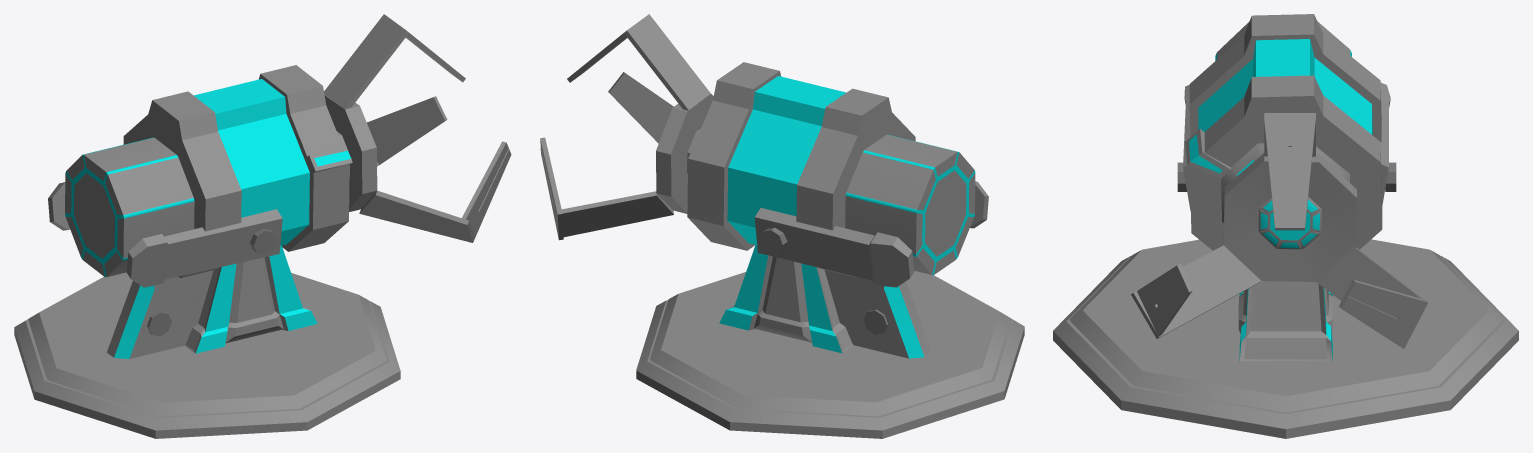
The model's file is black_hole_gun.fbx.
The picture shows the model from 3 angles, left to right: view 1: azimuth 30°, elevation 25°; view 2: azimuth 150°, elevation 25°; view 3: azimuth 270°, elevation 25°; orthographic projection. The views are drawn at different scales.
Visible parts, largest first — view 1: pCylinder3, pCylinder1, pCylinder6, pCube17, pCube1, pCube19, pCube3, pCylinder2, pCube9, pCube10, pCube8, pCube14 (+2 smaller); view 2: pCylinder3, pCylinder1, pCylinder6, pCube17, pCube14, pCube19, pCylinder2, pCube3, pCube11, pCube8, pCube9, pCylinder5 (+3 smaller); view 3: pCylinder3, pCylinder1, pCylinder2, pCube17, pCube4, pCube10, pCube9, pCube11, pCube8, pCube14, pCube1, pCylinder6 (+1 smaller).
Boxes of the visible parts, x1,y1,x2,y2 form: pCylinder3: (14, 272, 400, 438); pCylinder1: (123, 65, 352, 278); pCylinder6: (65, 137, 194, 277); pCube17: (185, 245, 317, 353); pCube1: (126, 209, 282, 287); pCube19: (107, 270, 213, 358); pCube3: (324, 14, 408, 109); pCylinder2: (324, 95, 377, 211); pCube9: (367, 96, 447, 164); pCube10: (359, 190, 474, 242); pCube8: (460, 141, 511, 242); pCube14: (48, 182, 70, 230); pCylinder3: (636, 270, 1024, 438); pCylinder1: (687, 62, 915, 277); pCylinder6: (845, 134, 975, 275); pCube17: (719, 245, 852, 353); pCube14: (754, 208, 914, 287); pCube19: (824, 270, 931, 358); pCylinder2: (656, 94, 713, 213); pCube3: (624, 14, 710, 110); pCube11: (557, 191, 673, 237); pCube8: (608, 72, 673, 143); pCube9: (540, 137, 563, 240); pCylinder5: (759, 227, 787, 254); pCylinder3: (1053, 239, 1518, 438); pCylinder1: (1185, 14, 1382, 250); pCylinder2: (1223, 153, 1356, 281); pCube17: (1238, 281, 1332, 361); pCube4: (1264, 118, 1315, 230); pCube10: (1131, 245, 1261, 338); pCube9: (1339, 279, 1427, 348); pCube11: (1317, 247, 1427, 302); pCube8: (1137, 263, 1192, 338); pCube14: (1380, 82, 1390, 204); pCube1: (1183, 85, 1190, 210); pCylinder6: (1215, 21, 1351, 60).
Bounding box in the file's own units: 411 × 259 × 326.
